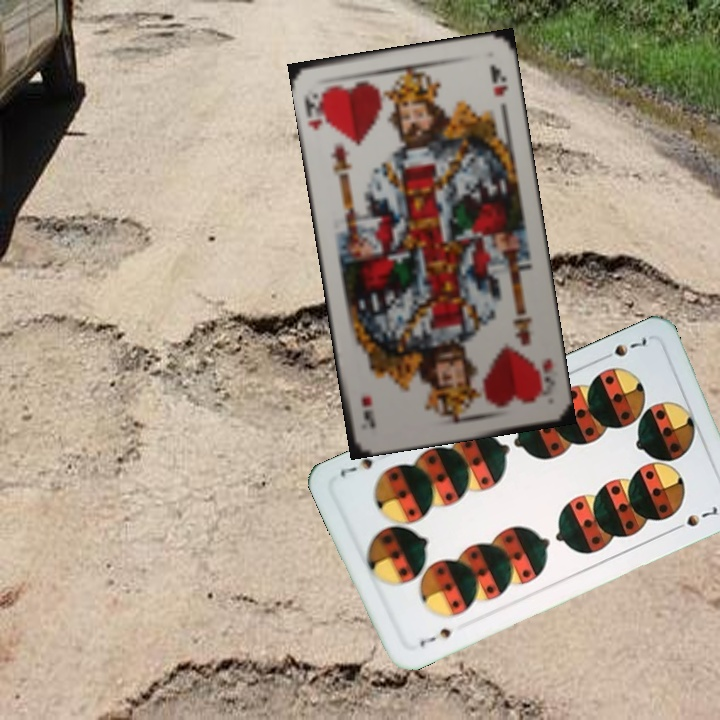HK: (300, 88, 331, 132), (531, 355, 558, 398)
S7: (596, 332, 650, 364), (415, 623, 454, 650)
